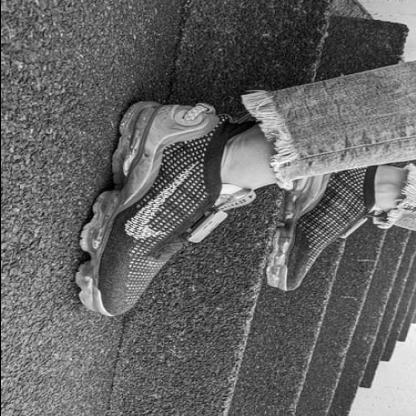ankle: (216, 149, 226, 155), (381, 187, 389, 191)
heel: (322, 177, 329, 183), (153, 110, 161, 114)
left_foot: (267, 166, 395, 293)
pinky: (112, 278, 120, 284), (302, 277, 304, 279)
right_foot: (78, 103, 250, 317)
toe: (131, 302, 137, 307), (287, 282, 290, 285)
